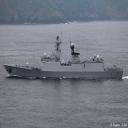Fragata: (4, 37, 125, 81)
